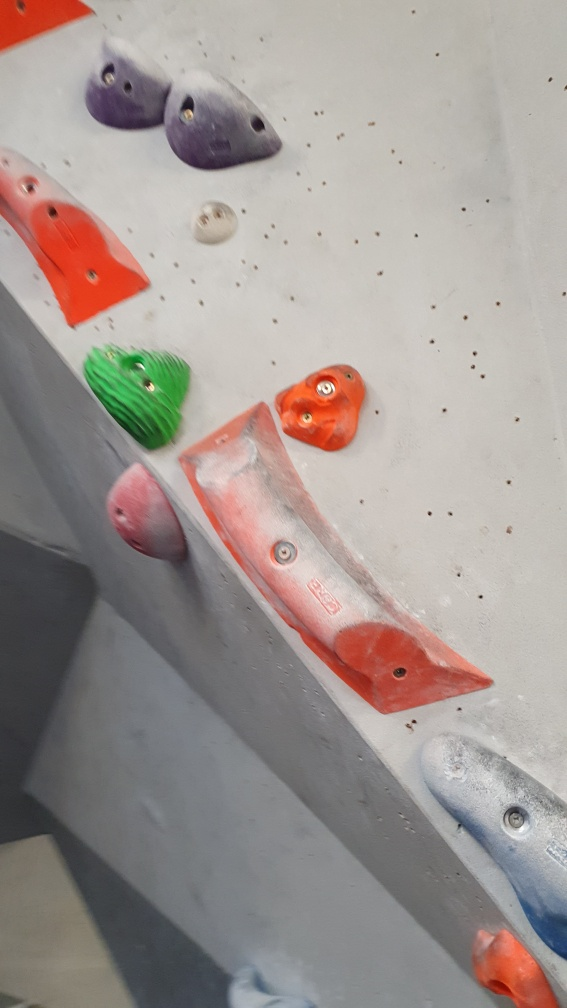Jug: (163, 64, 288, 169), (83, 339, 192, 451), (84, 39, 167, 134), (228, 962, 319, 1008)
Pinch: (180, 399, 500, 716), (415, 726, 567, 956), (1, 148, 151, 327)
Sloper: (102, 462, 187, 567)
